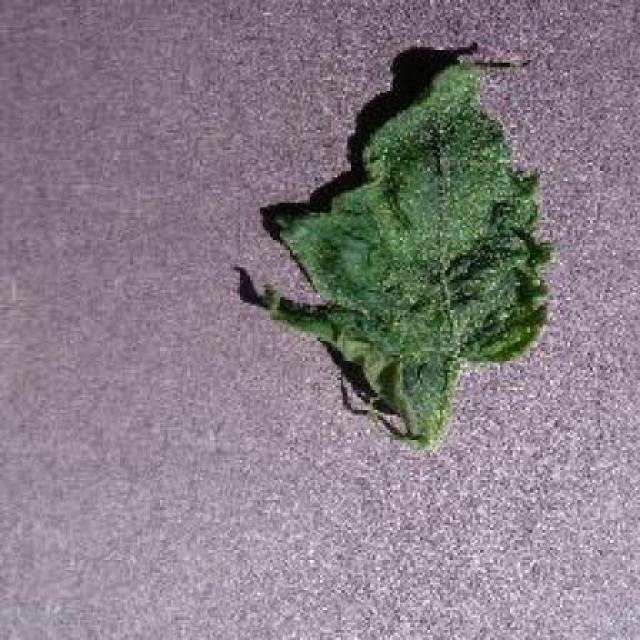Mosaic Virus: (254, 46, 559, 428)
